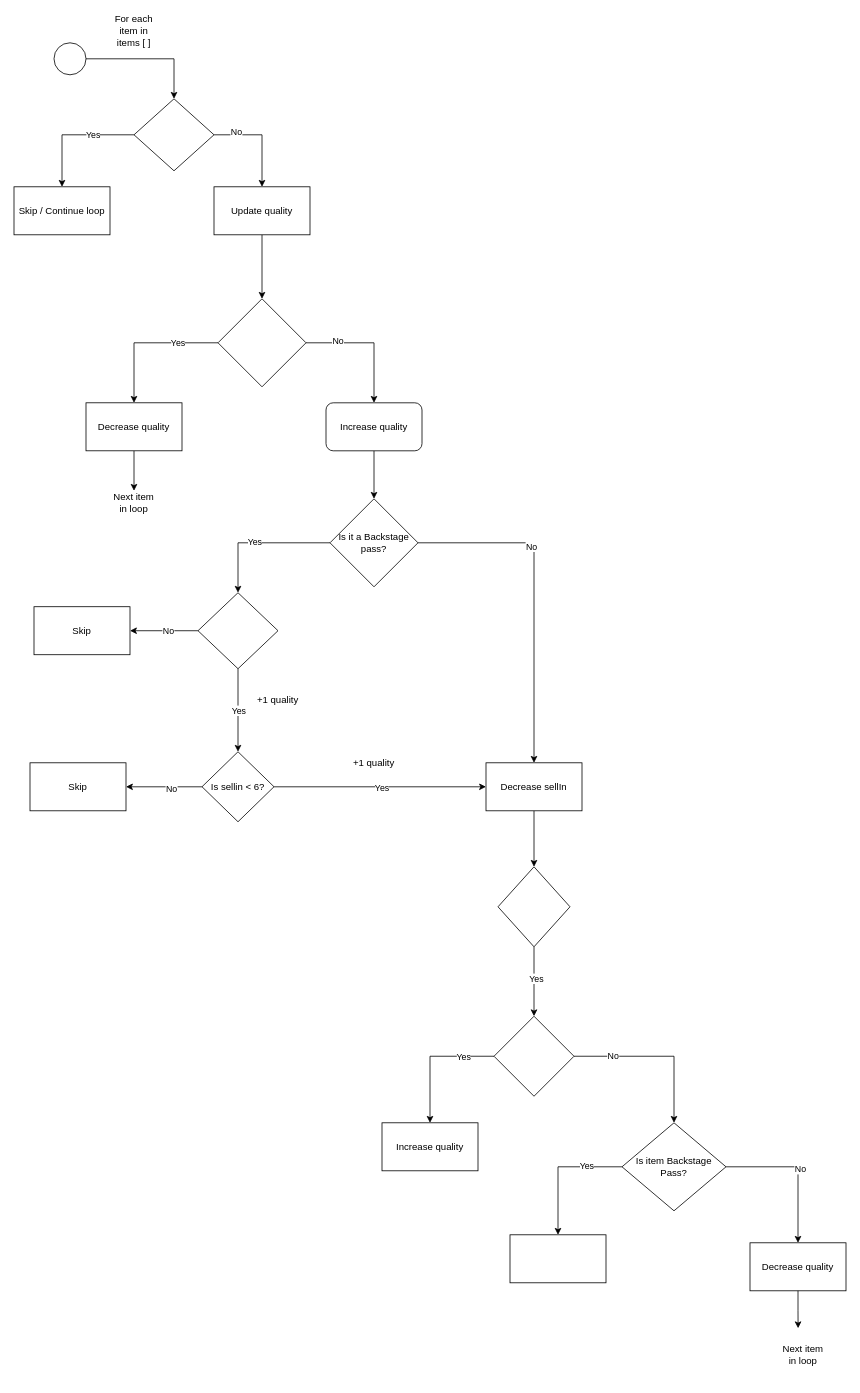
Some shapes in this 860 by 1393 pixel diagram are drawn without their labels. The shapes that lost their labels are listed below. From the top down, each one's centre as x and y in pixels, then its label:
the point at 173,134: Is item name "Sulfuras" ?
the point at 261,342: Is it a common item?
the point at 237,630: Is sellIn < 11?
the point at 533,906: Is this item expired? (sellIn < 0)
the point at 533,1055: Is item Aged Brie?
the point at 557,1258: Set quality = 0
